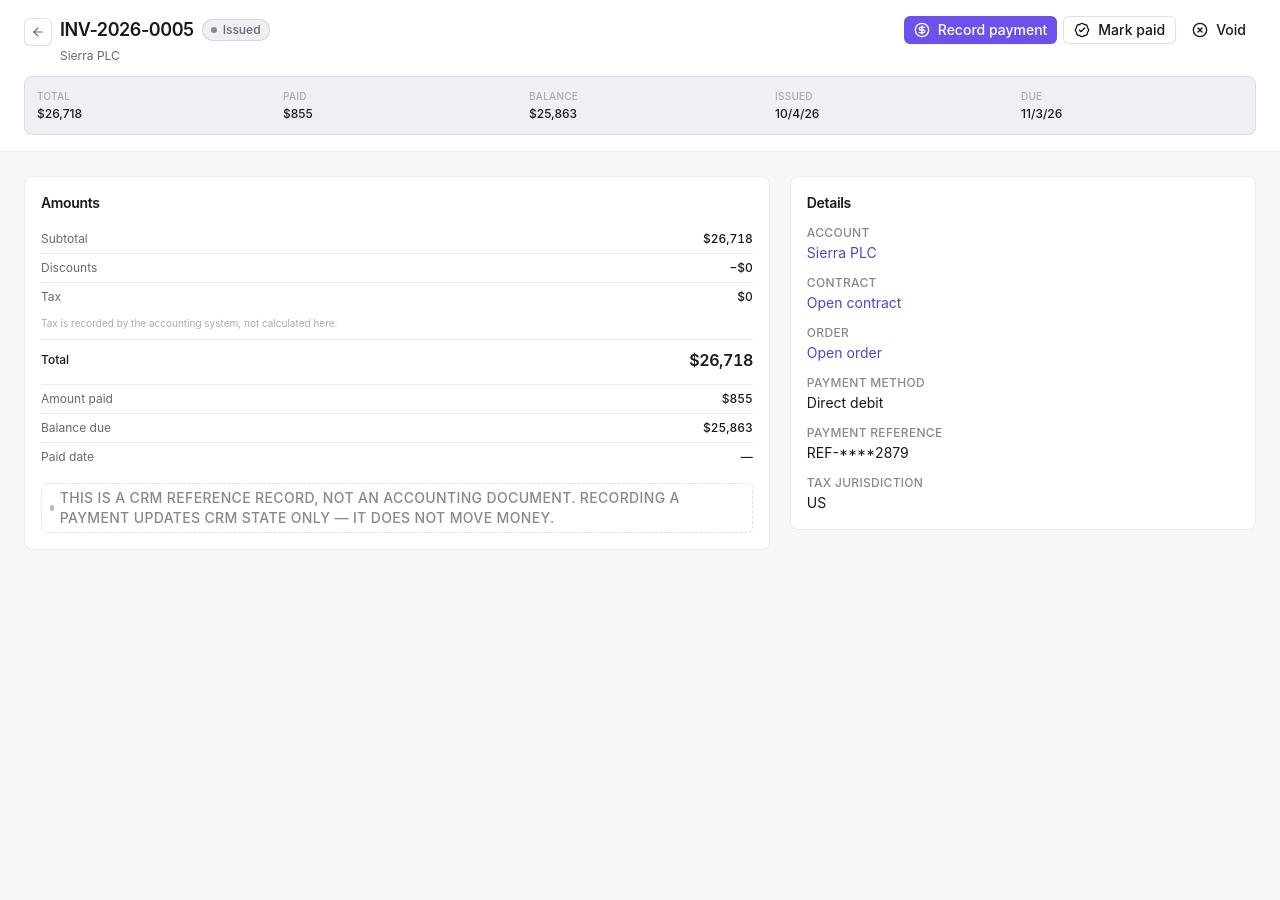
Scenario: InvoiceDetail settlement writes › settles the balance when the invoice is marked paid
Click the button "Mark paid" at (1120, 30), box [1063,16,1176,44]
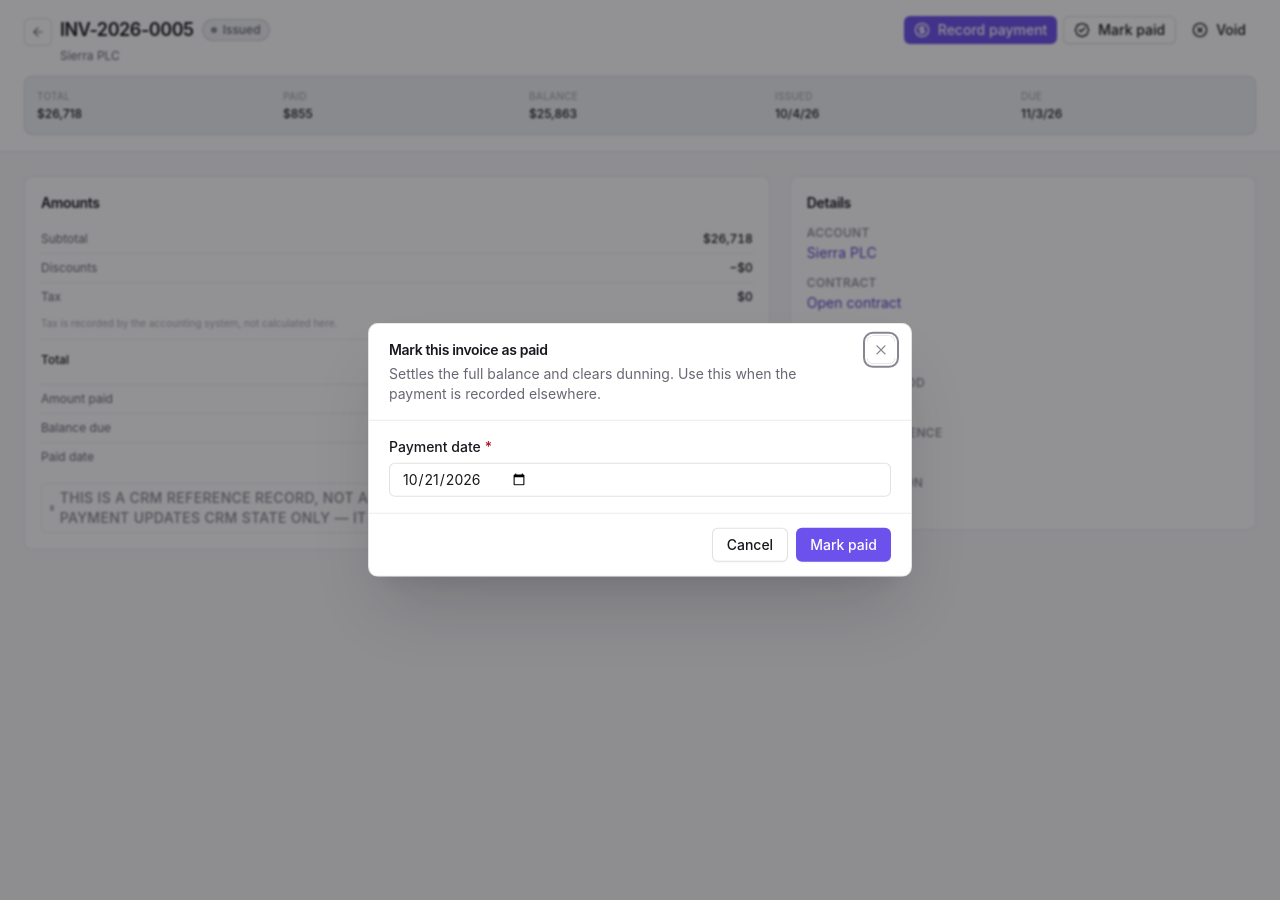
Click the button "Mark paid" at (844, 545), box [796,528,891,562]
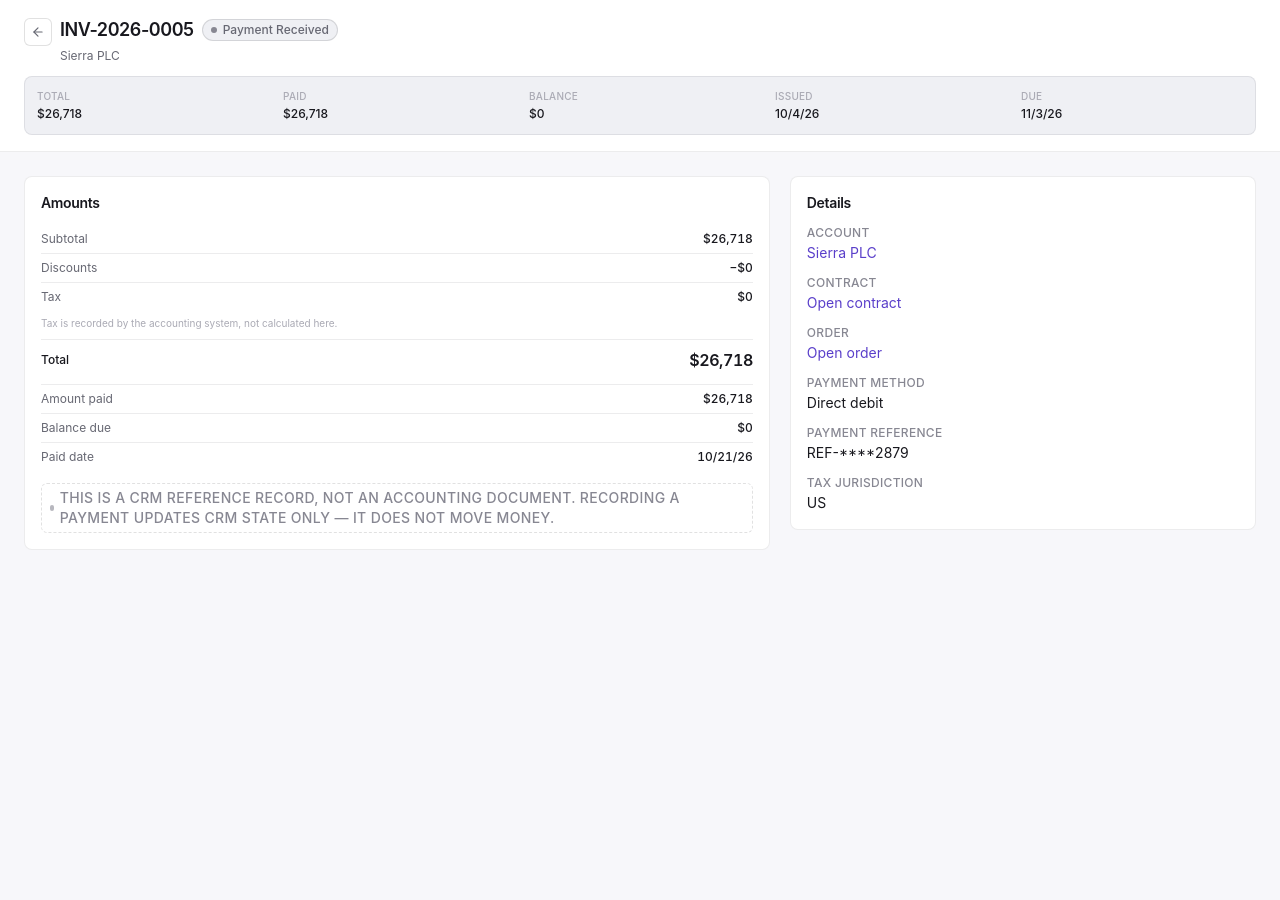
Now the dialog is gone
Now the button "Mark paid" is gone
